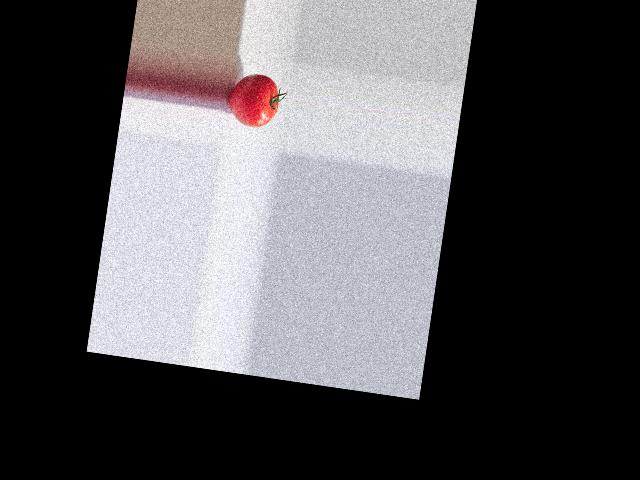tomato: (225, 71, 281, 130)
